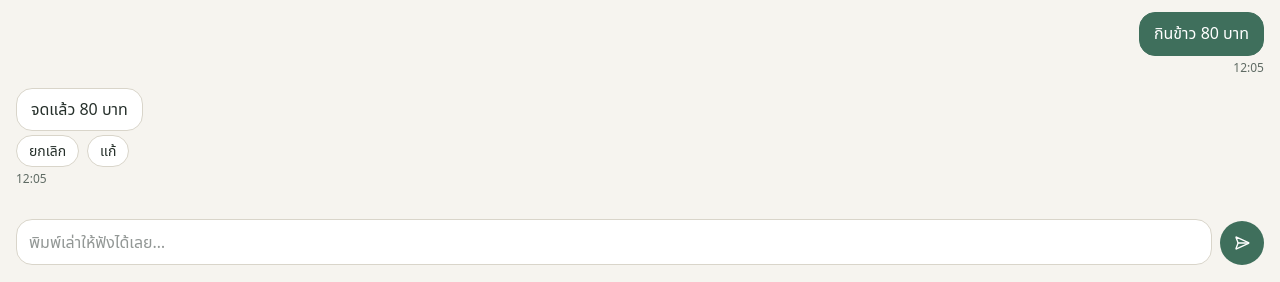
Test case: แก้ undoes then fills the composer with the previous user text and focuses it
Click the button "แก้" at (108, 151), box [87, 135, 130, 167]
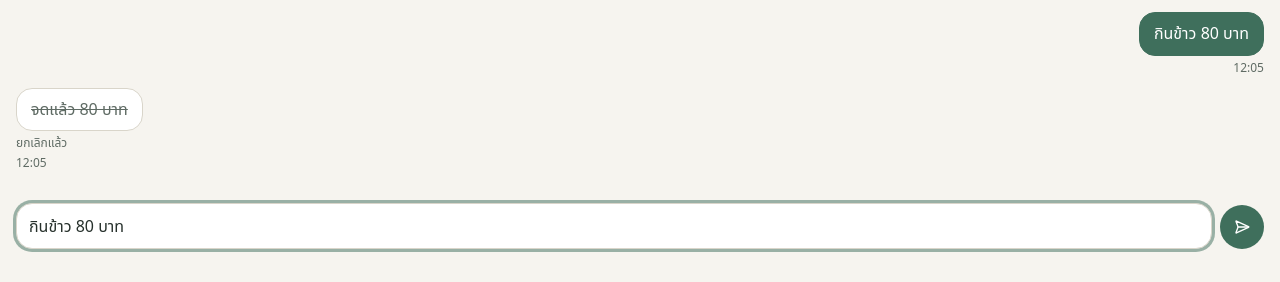
expect the text "ยกเลิกแล้ว" is shown: met, box [16, 135, 67, 151]
expect the text box named "พิมพ์เล่าให้ฟังได้เลย…" holds "กินข้าว 80 บาท": met, box [16, 203, 1212, 249]
